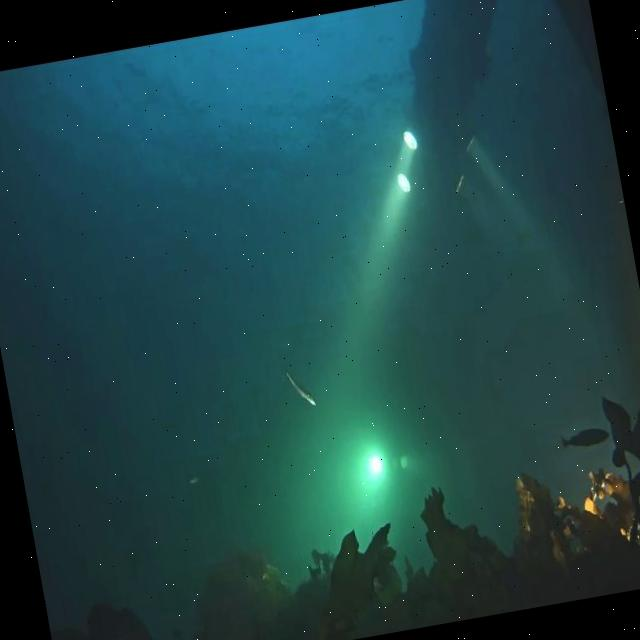fish: (558, 422, 610, 452), (285, 368, 317, 409), (187, 471, 199, 486)
